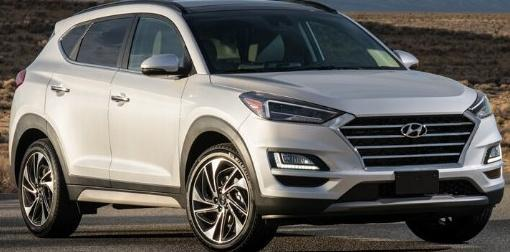Cars: (11, 3, 505, 252)
